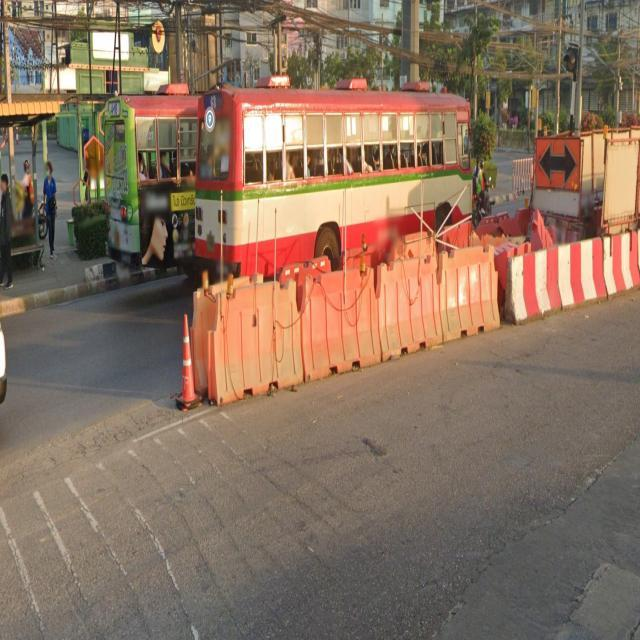fallen_object: (176, 266, 320, 395), (286, 257, 434, 365), (491, 218, 640, 307), (409, 229, 507, 339), (160, 302, 203, 401)
